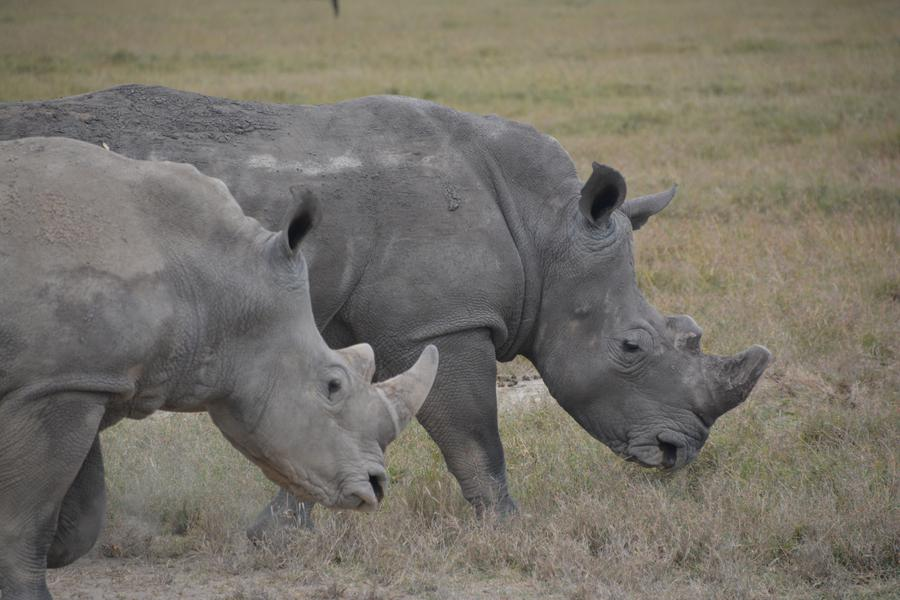rhino: (168, 88, 707, 456), (11, 134, 399, 559)
